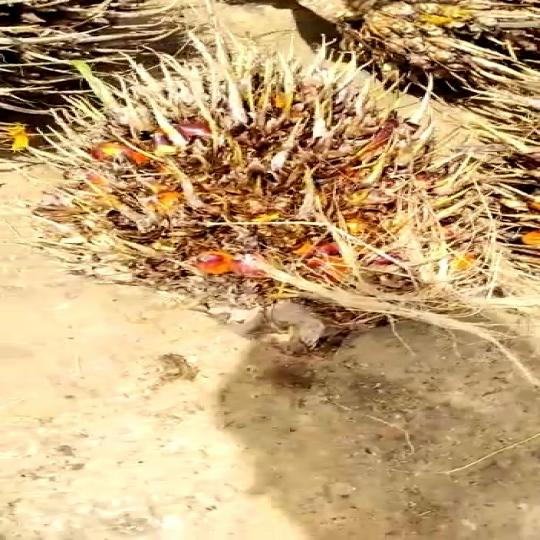terlalu masak: (18, 37, 530, 350)
